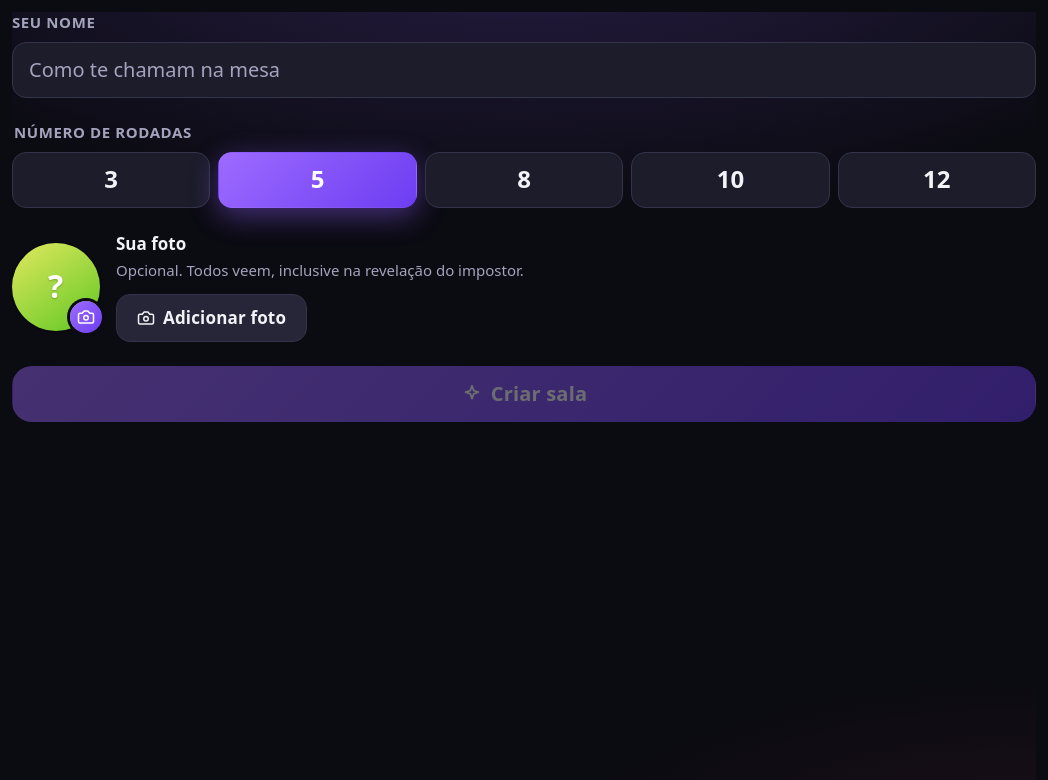
CreateRoomForm › creates the room with the chosen rounds, stores the session and opens the room
The image size is (1048, 780).
Type "  Ana  " into the field labelled "Seu nome" at {"x": 524, "y": 70}, box left=12, top=42, right=1036, bottom=98
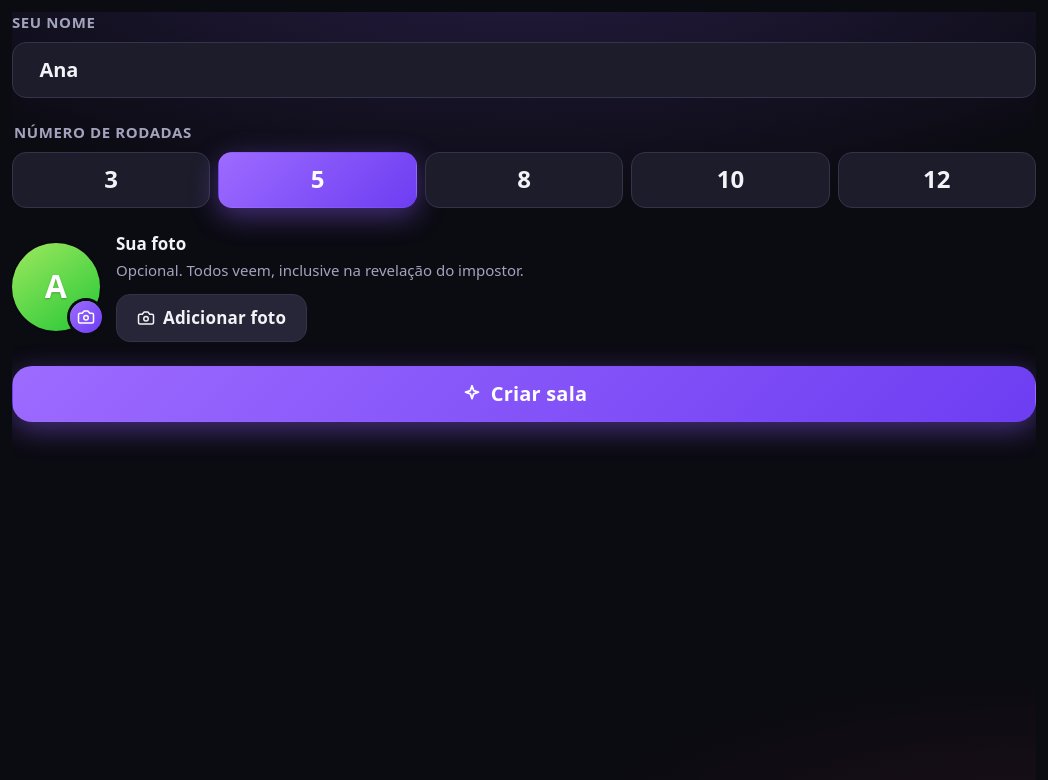
Click the button "8" at {"x": 524, "y": 180}, box left=425, top=152, right=623, bottom=208
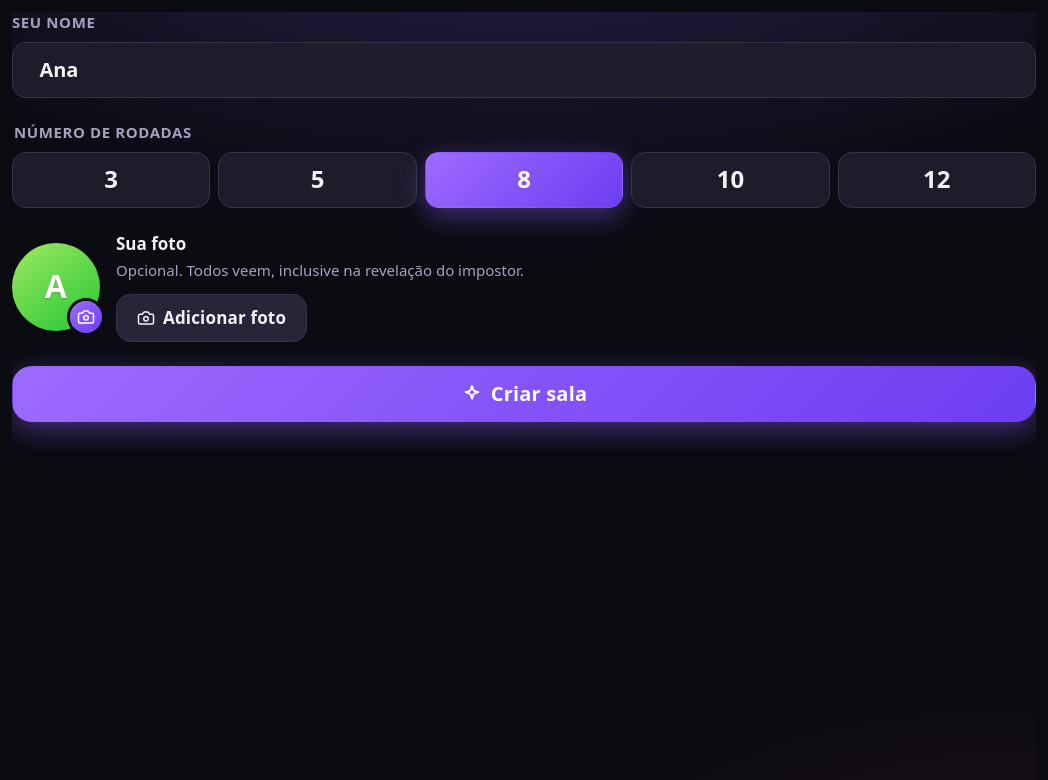
Click the button "Criar sala" at {"x": 524, "y": 394}, box left=12, top=366, right=1036, bottom=422
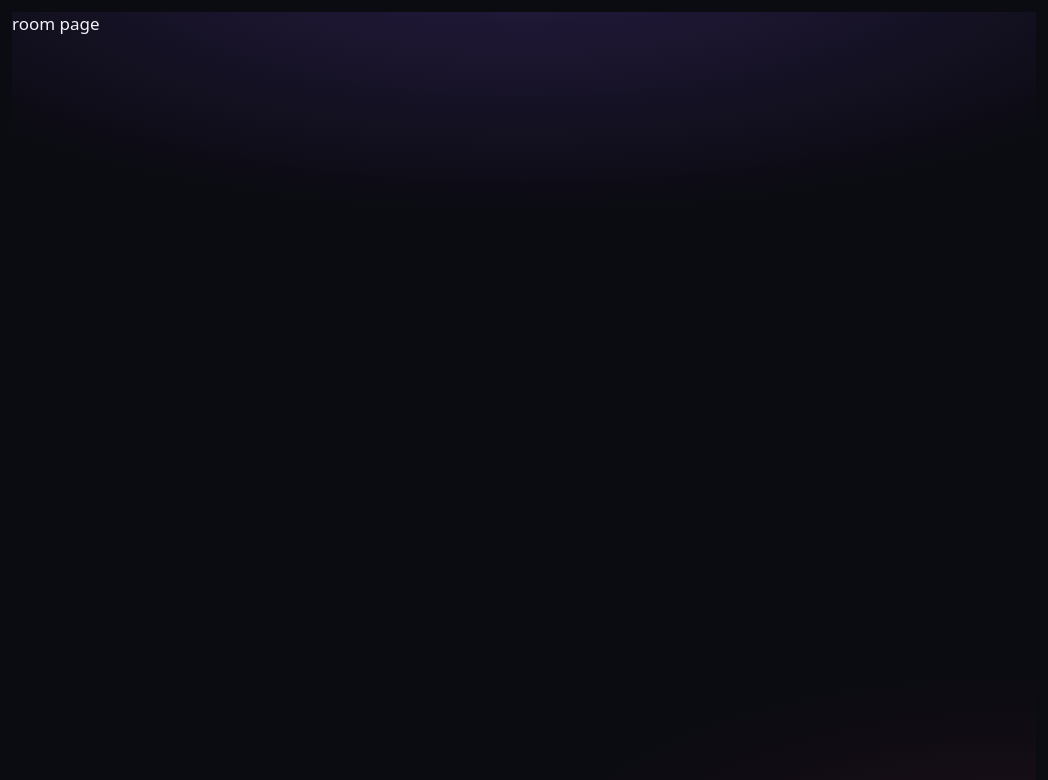
Expected: the text "room page" is shown, left=12, top=12, right=100, bottom=35
